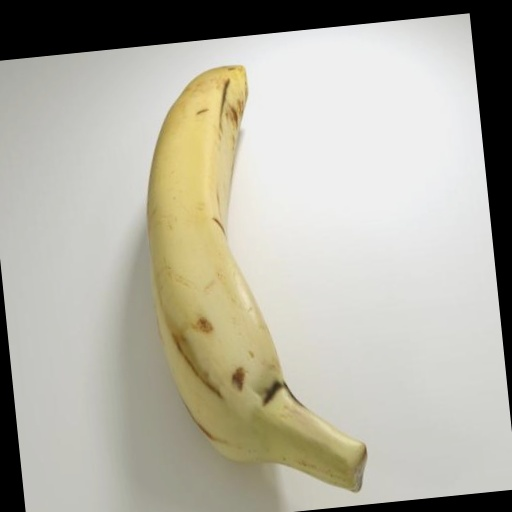fruit: (147, 66, 366, 491)
